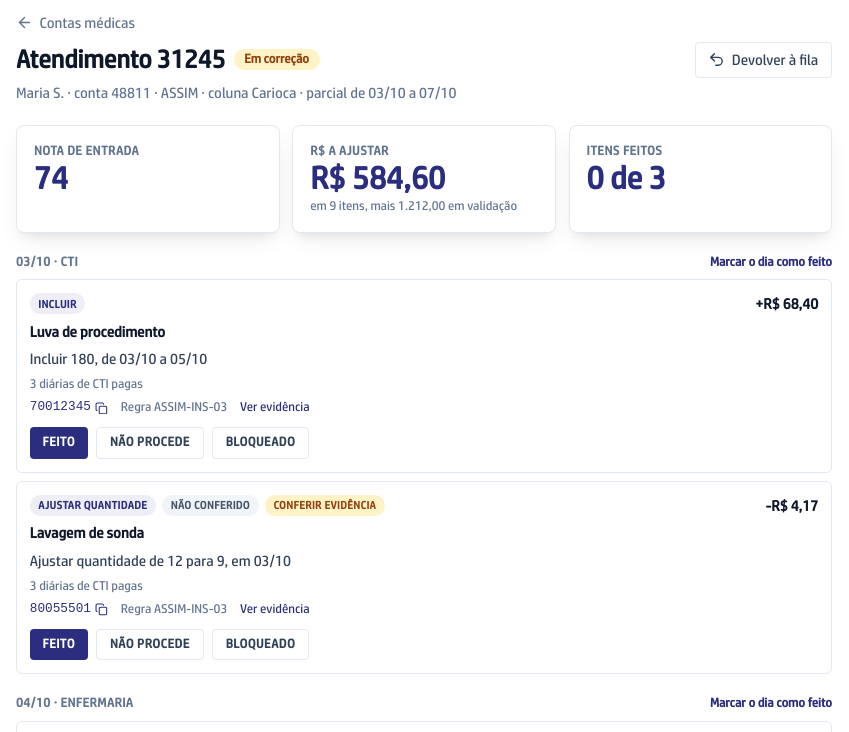
Test: as linhas por dia e setor › Ver evidência vem fechado e abre a página e o trecho com o nível
This screenshot has width=849, height=732.
expect the heading "Atendimento 31245" is shown: met, box [16,43,225,77]
expect the text "Luva de procedimento 60 por dia" is not shown: met
Click the button "Ver evidência" below "Incluir 180, de 03/10 a 05/10" at (275, 408), box [240,399,310,416]
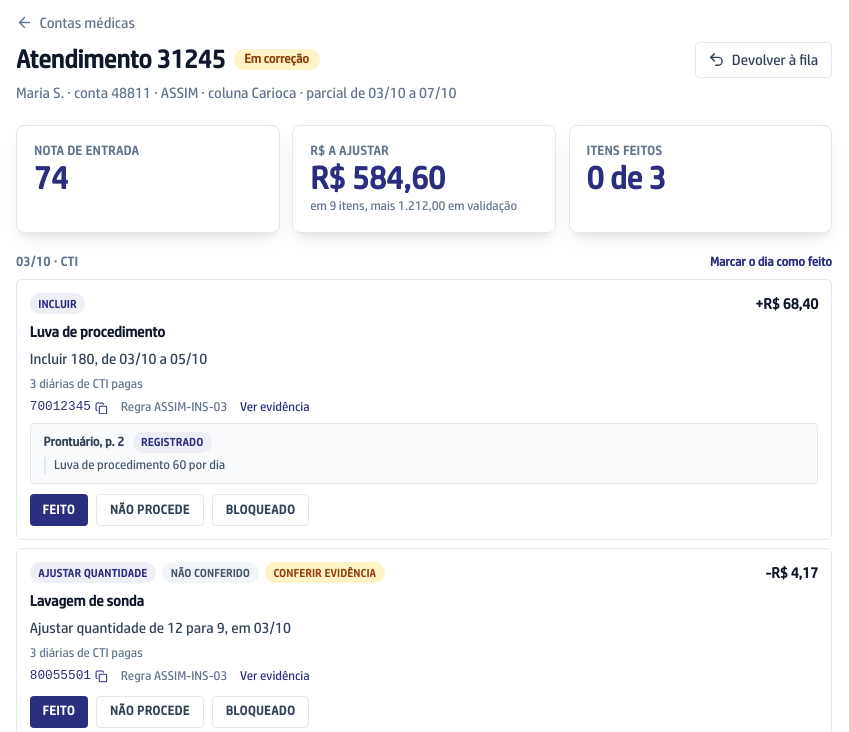
expect the text "Prontuário, p. 2" is shown: met, box [44,434,124,451]
expect the text "Luva de procedimento 60 por dia" is shown: met, box [44,457,804,474]
expect the text "Registrado" is shown: met, box [133,432,212,453]
